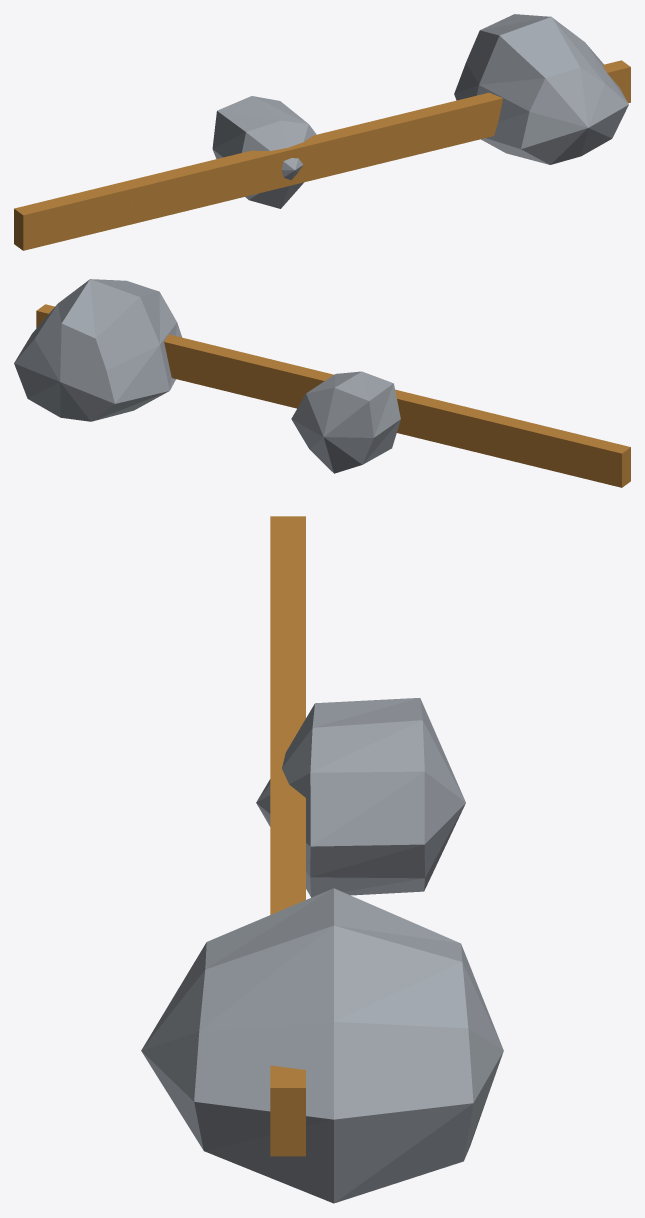
The model's file is paloyPiedra.fbx.
3 views of the same model, one above another, from view 1: azimuth 30°, elevation 25°; view 2: azimuth 150°, elevation 25°; view 3: azimuth 270°, elevation 25° (orthographic). The views are drawn at different scales.
Visible parts, largest first — view 1: 01_palo_piedras_lowpoly; view 2: 01_palo_piedras_lowpoly; view 3: 01_palo_piedras_lowpoly.
Boxes of the visible parts, x1,y1,x2,y2 form: 01_palo_piedras_lowpoly: (14, 14, 630, 250); 01_palo_piedras_lowpoly: (14, 279, 630, 487); 01_palo_piedras_lowpoly: (141, 516, 503, 1203).
Size of the model in its own units: 680 by 139 by 182.
